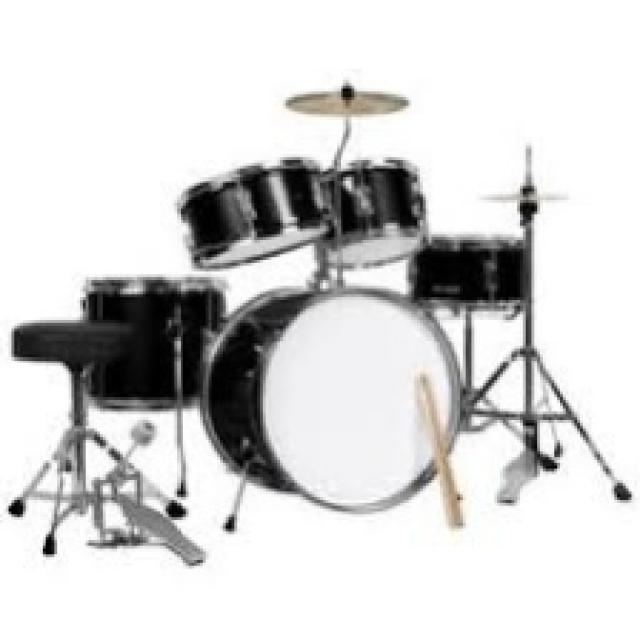drums: (1, 76, 640, 573)
